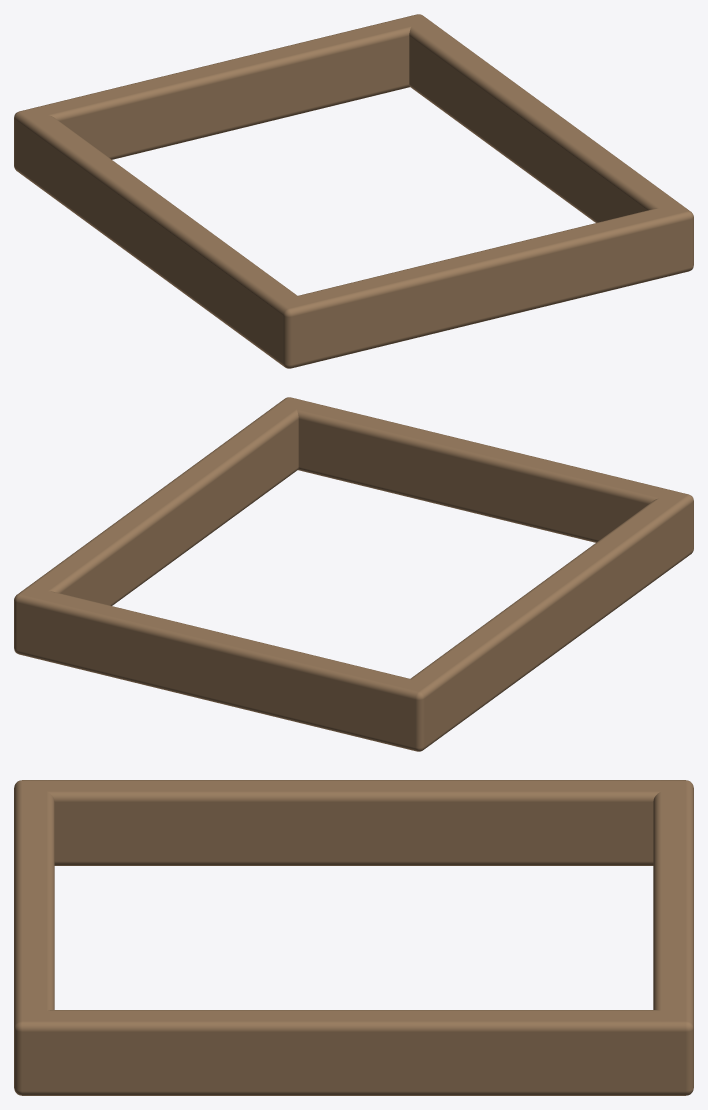
The model's file is chocolate-making-and-confectionery-ganache-slab-frame-9bf27619__39158.glb.
3 renders of one model, top to bottom at view 1: azimuth 30°, elevation 25°; view 2: azimuth 150°, elevation 25°; view 3: azimuth 270°, elevation 25°, orthographic. The views are drawn at different scales.
Parts seen in each view (by area): view 1: ganache-slab-frame; view 2: ganache-slab-frame; view 3: ganache-slab-frame.
Boxes of the visible parts, bbox=[...] form: ganache-slab-frame: bbox=[14, 14, 693, 368]; ganache-slab-frame: bbox=[14, 397, 693, 751]; ganache-slab-frame: bbox=[14, 780, 693, 1095].
Bounding box in the file's own units: 0.43 × 0.06 × 0.5.
